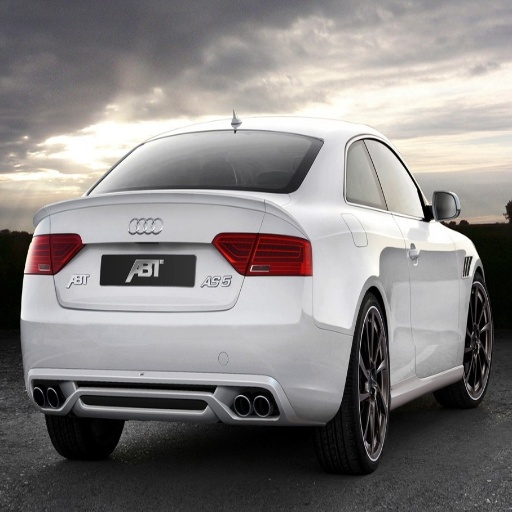_background_: (23, 276, 357, 423)
back_bumper: (103, 132, 318, 191)
back_left_light: (344, 134, 415, 382)
back_right_door: (246, 233, 312, 274)
front_left_light: (373, 137, 463, 376)
right_mirror: (105, 264, 232, 310), (97, 191, 188, 241)
tailgate: (47, 200, 263, 310)
trunk: (315, 293, 387, 472), (456, 283, 491, 406), (49, 417, 123, 458)
